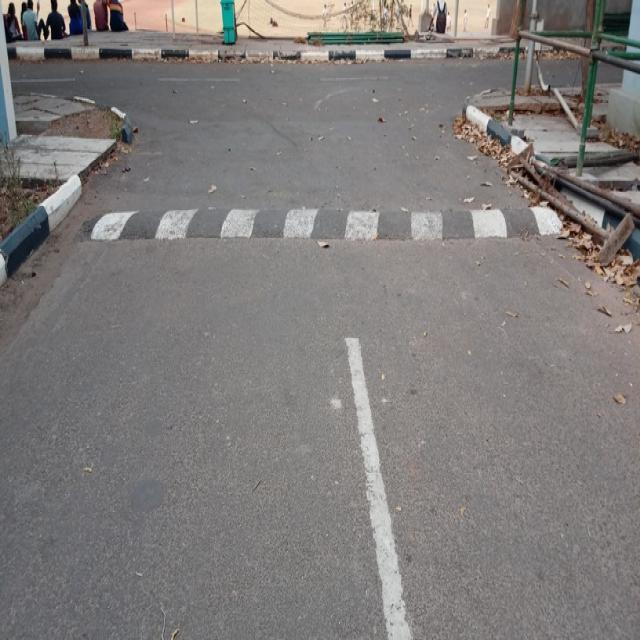Marked Bump: (95, 200, 555, 248)
